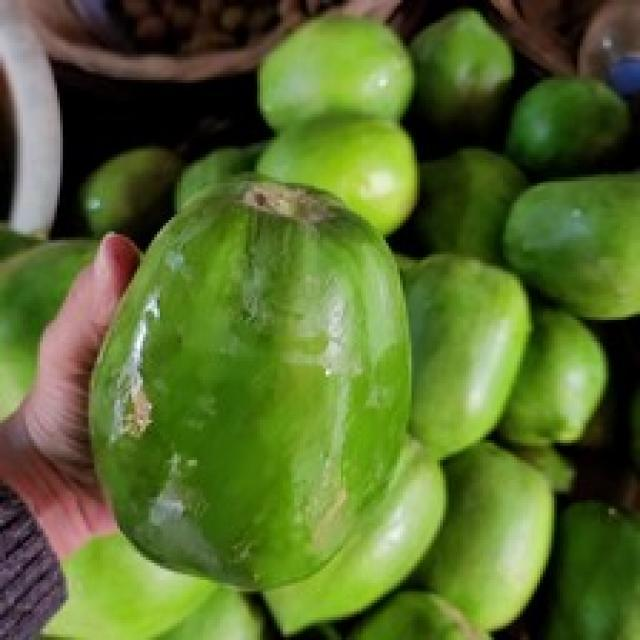Pepaya unrippen: (85, 173, 404, 601)
